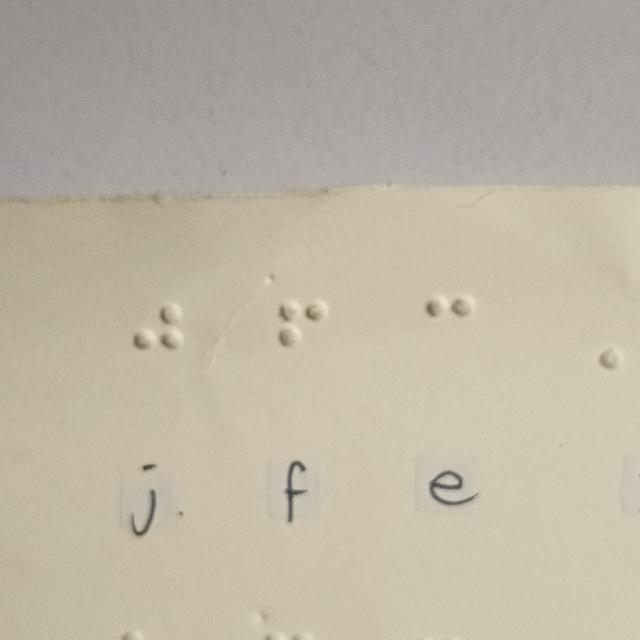letter_c: (425, 297, 476, 375)
letter_f: (278, 299, 329, 377)
letter_j: (132, 302, 183, 380)
